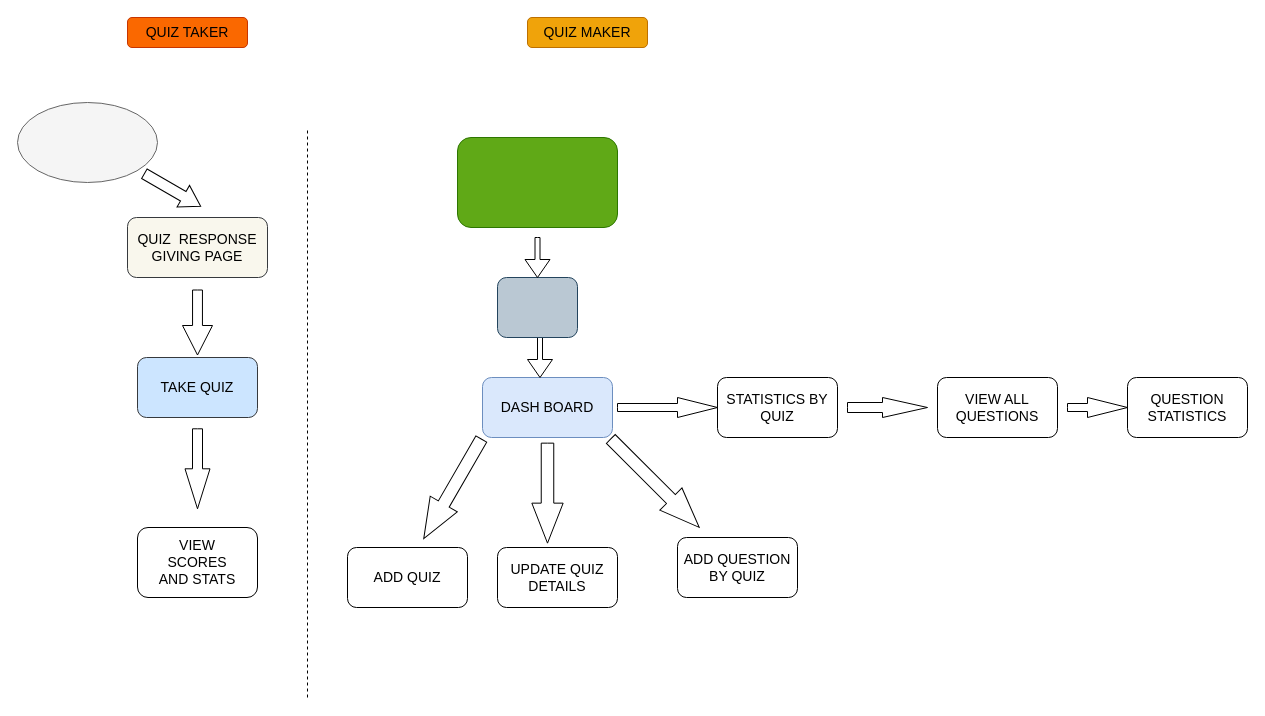
This 1265x716 diagram has some shape labels left out. The box of each missing label's shape, as (x1, y1, x2, y2) in pixels:
LOGIN or REGISTER: (496, 276, 578, 338)
QUIZZY ( Home Page ): (456, 136, 618, 228)
SHARED LINK BY QUIZ MAKER: (16, 102, 158, 182)
